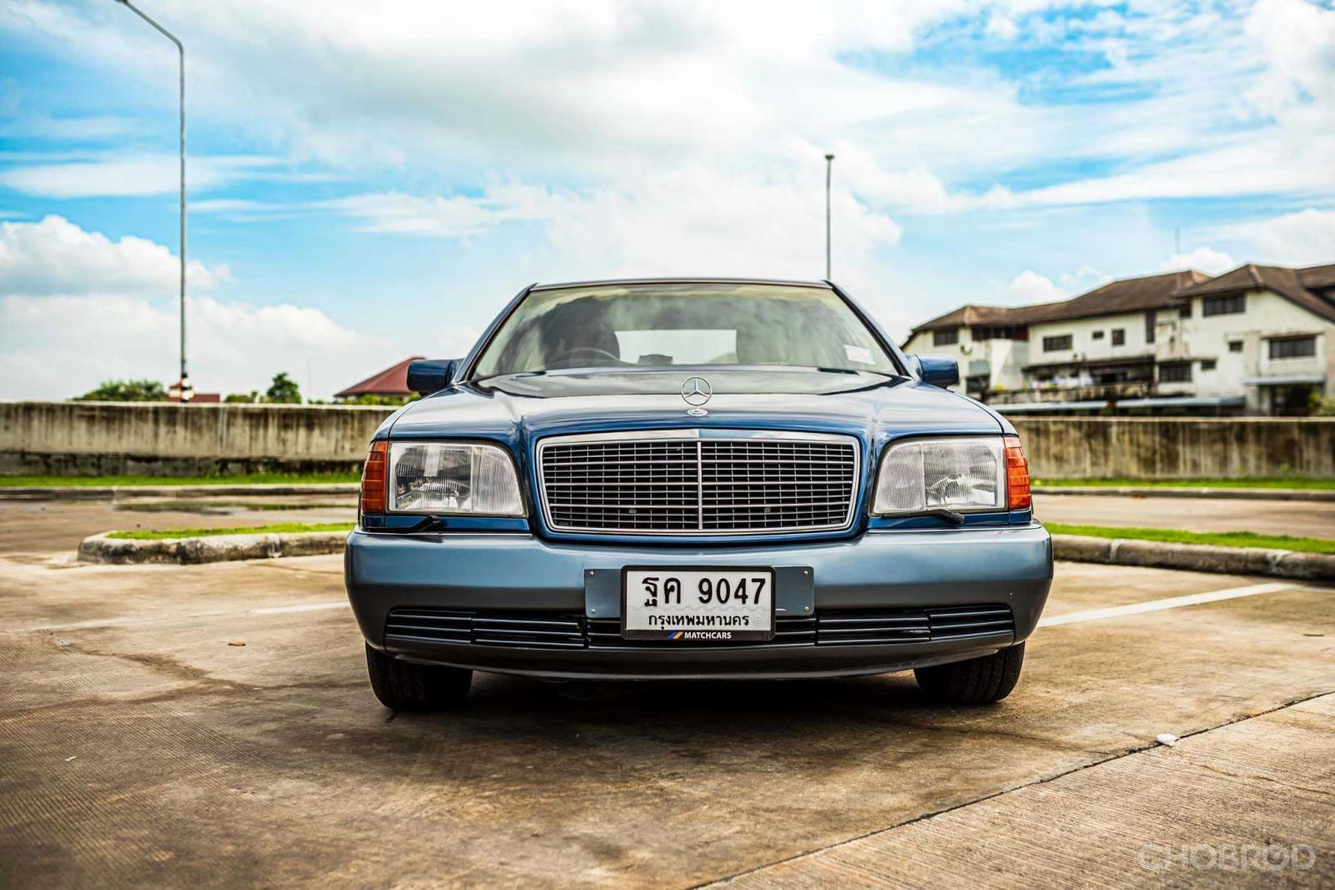license-plate: (617, 554, 783, 649)
